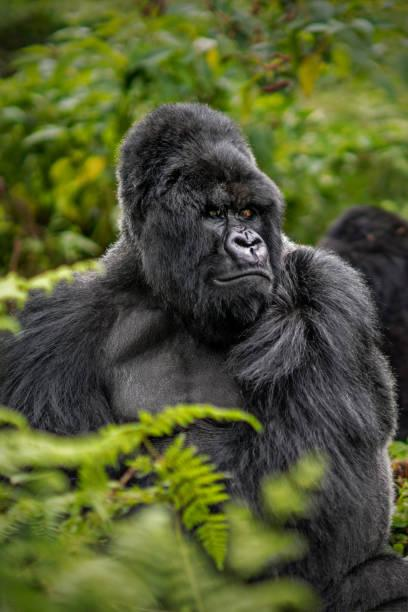goriile_montagne: (0, 94, 404, 501)
